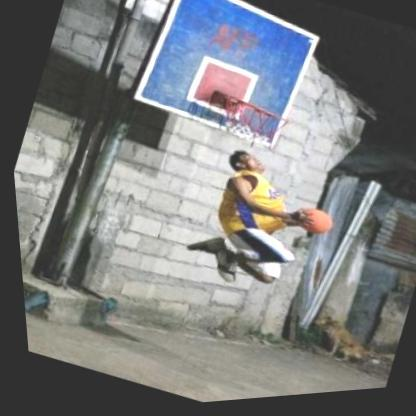basketball: (286, 203, 337, 250)
